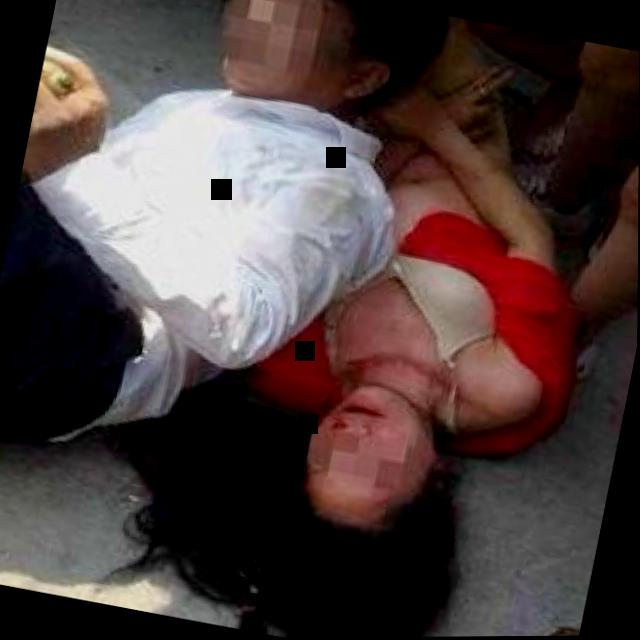Fall-Detected: (212, 4, 640, 639)
